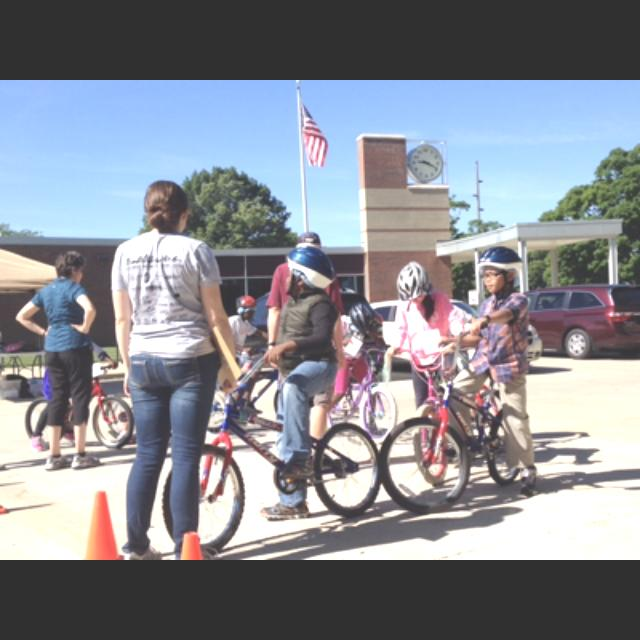With Helmet: (472, 238, 534, 306), (285, 245, 335, 298)
